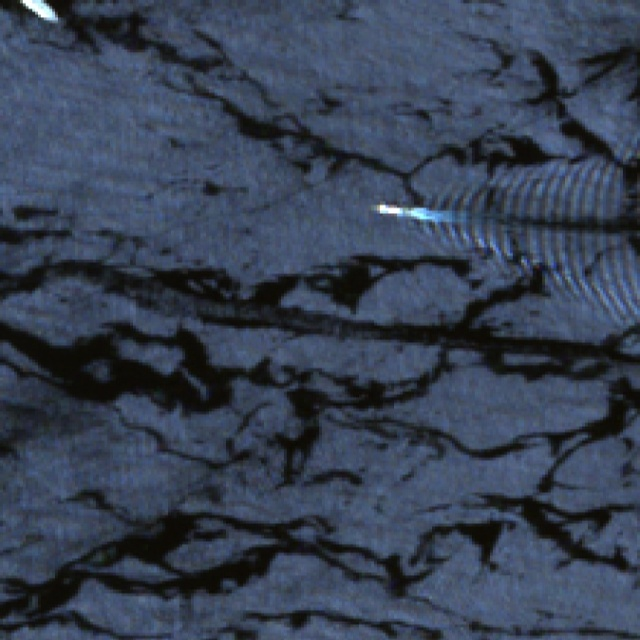wake: (359, 152, 586, 286)
